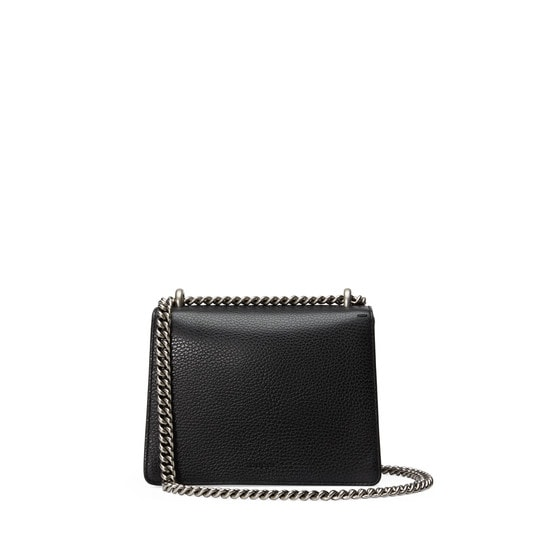Gucci: (134, 285, 412, 503)
